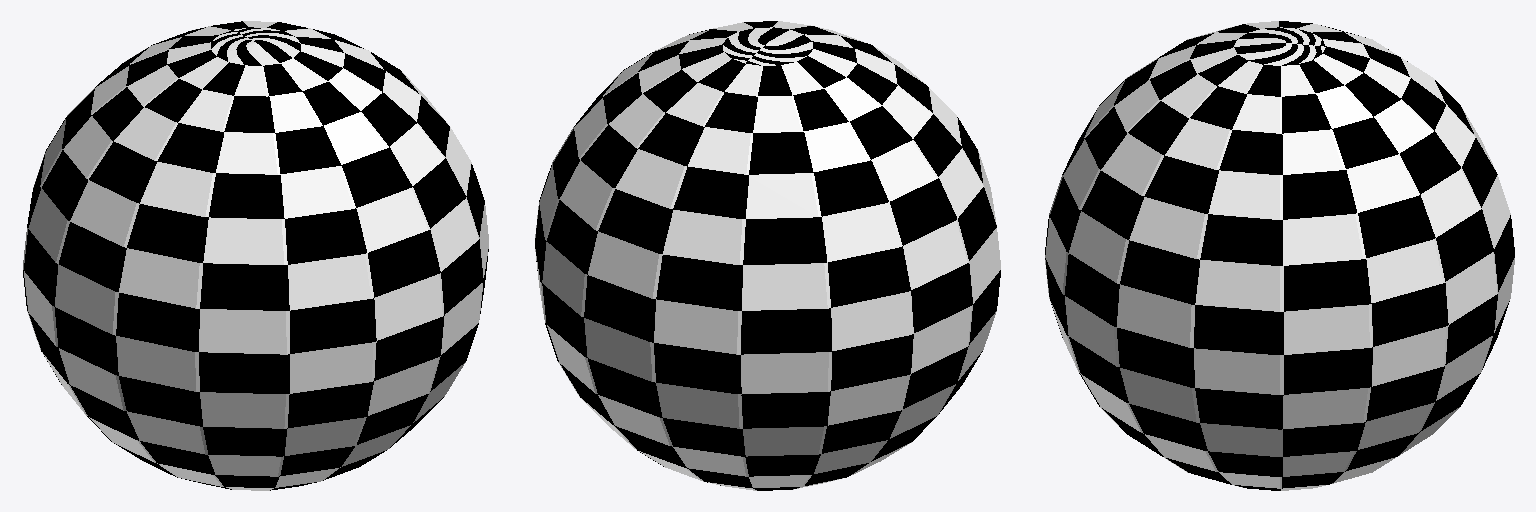
The picture shows the model from 3 angles: view 1: azimuth 30°, elevation 25°; view 2: azimuth 150°, elevation 25°; view 3: azimuth 270°, elevation 25°; orthographic projection.
Parts seen in each view (by area): view 1: pSphere1; view 2: pSphere1; view 3: pSphere1.
Part boxes in pixels (bbox=[...]): pSphere1: bbox=[23, 21, 488, 490]; pSphere1: bbox=[535, 21, 1000, 490]; pSphere1: bbox=[1045, 21, 1514, 490].
Size of the model in its own units: 2 by 2 by 2.
Materials: 1 (1 with a texture image).